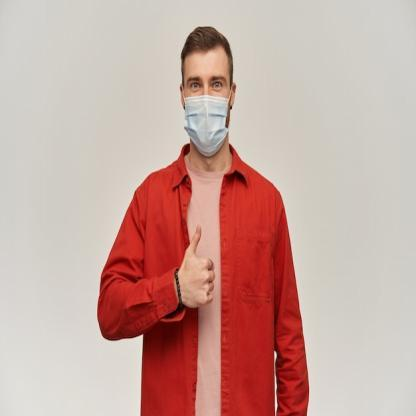thumb_up: (178, 221, 218, 312)
